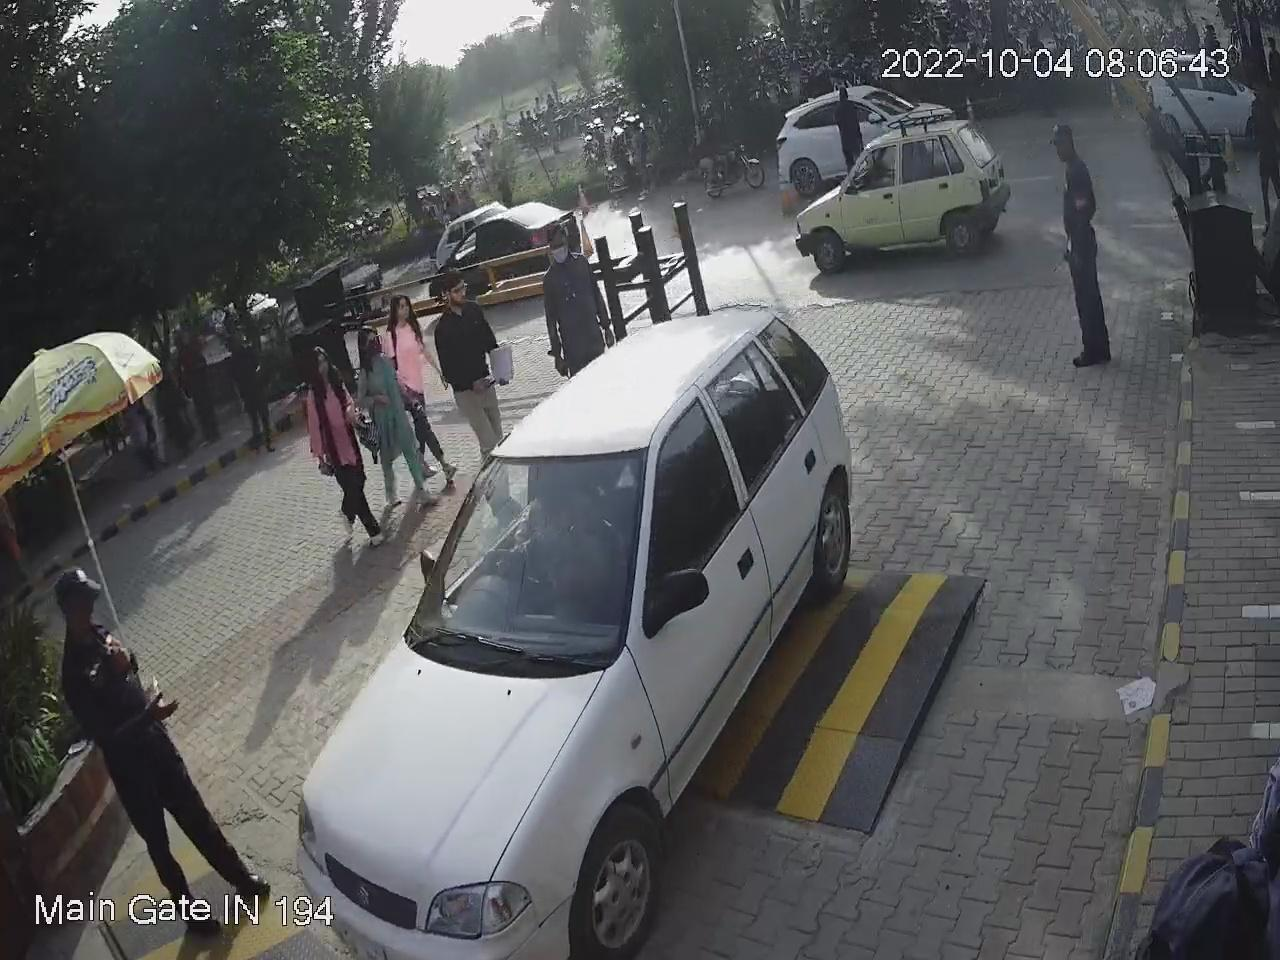windshield: (408, 443, 655, 670)
